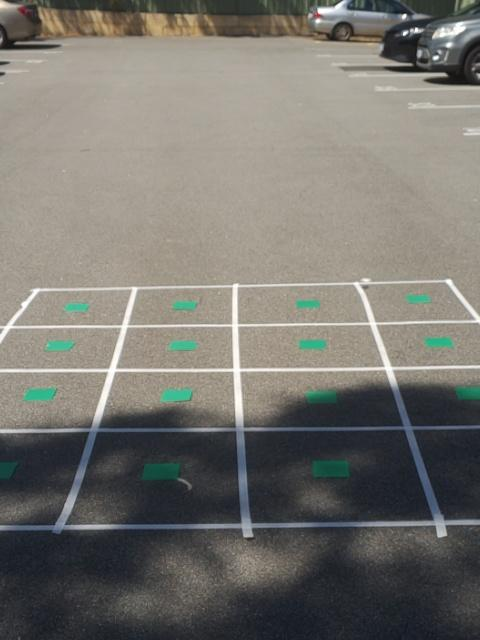weed: (309, 456, 351, 480), (142, 459, 183, 483), (307, 386, 338, 411), (0, 458, 21, 491), (22, 384, 59, 402), (159, 386, 191, 406), (453, 382, 480, 403), (424, 333, 453, 351), (296, 336, 327, 352), (42, 338, 76, 351), (166, 339, 200, 352), (404, 292, 430, 306), (63, 301, 90, 314), (170, 298, 197, 311), (298, 296, 321, 311)
